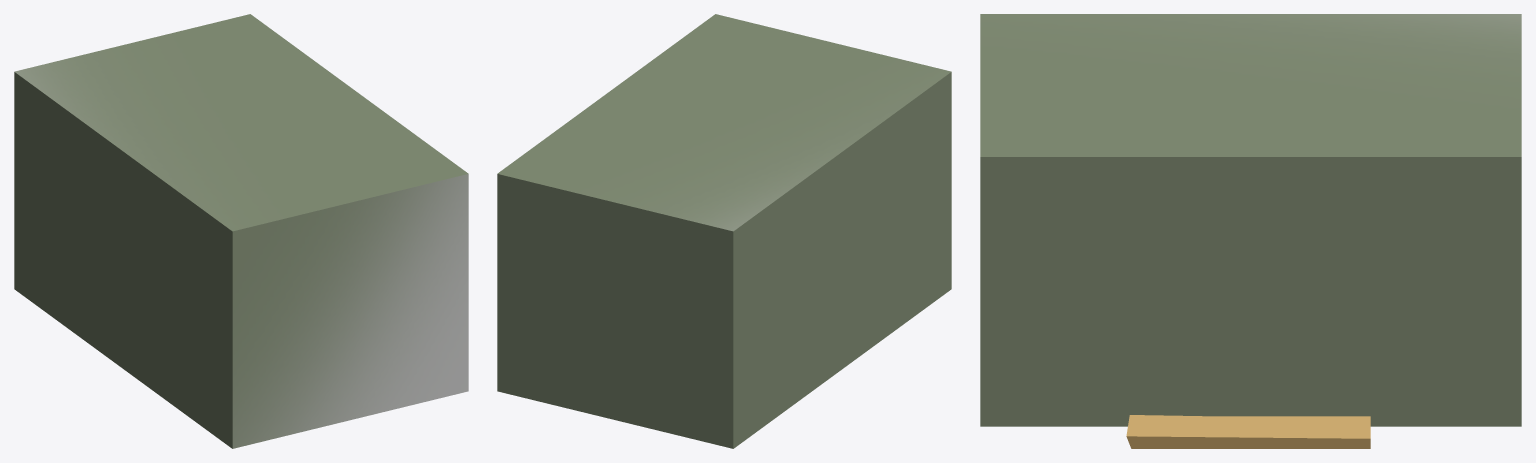
The model's file is sklep.glb.
3 views of the same model, side by side, from view 1: azimuth 30°, elevation 25°; view 2: azimuth 150°, elevation 25°; view 3: azimuth 270°, elevation 25° (orthographic). The views are drawn at different scales.
Parts seen in each view (by area): view 1: Cube; view 2: Cube; view 3: Cube, Cube.001.
Part boxes in pixels (box(x1,y1,x2,y2)): Cube: box(14, 14, 468, 448); Cube: box(497, 14, 951, 448); Cube: box(980, 14, 1521, 426); Cube.001: box(1126, 415, 1370, 448).
Bounding box in the file's own units: 9.79 × 7.35 × 13.38.
Materials: 2 (2 with a texture image).
